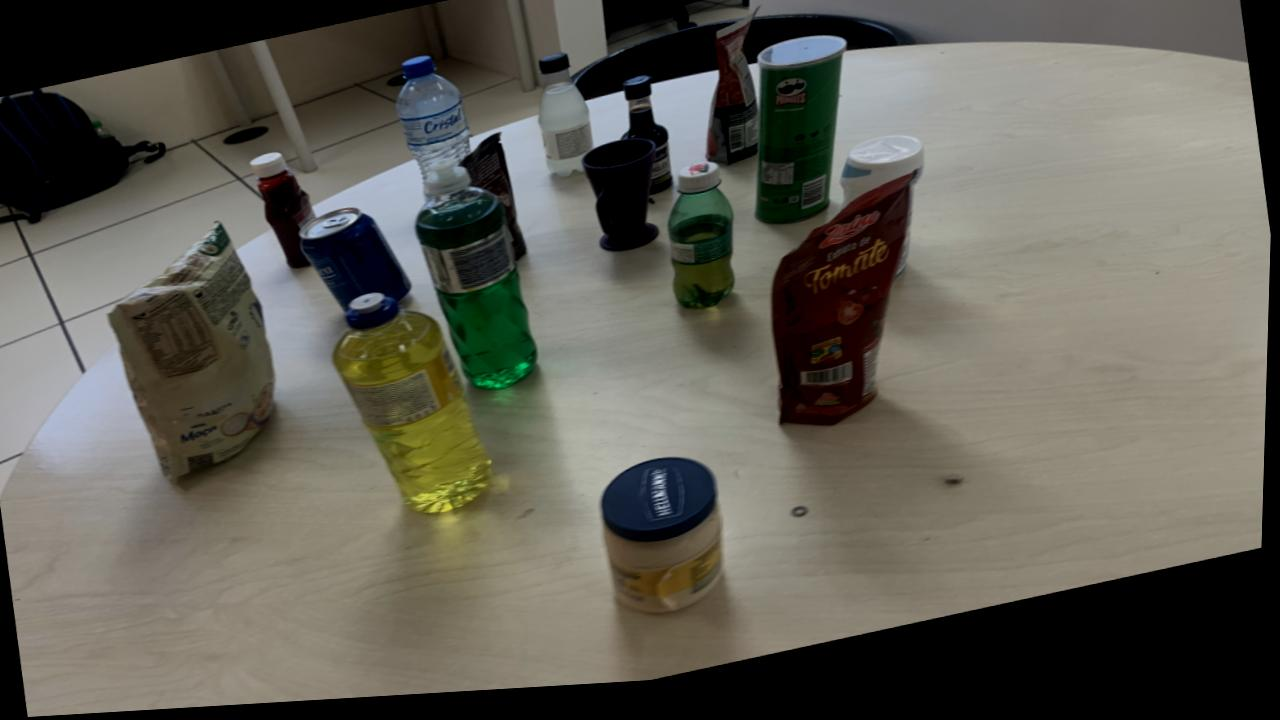Cleaner-Cleanup_Items: (842, 146, 926, 287)
Coffee-Pantry_Items: (462, 138, 528, 264)
Detergent-Cleanup_Items: (335, 297, 495, 519), (416, 165, 540, 395)
English_Sauce-Pantry_Items: (622, 82, 674, 201)
Flakes-Snacks: (110, 226, 278, 482)
Guarana-Drinks: (669, 170, 738, 316)
Ketchup-Pantry_Items: (252, 155, 316, 272)
Mayonnaise-Pantry_Items: (605, 465, 727, 621)
Pringles-Snacks: (757, 44, 849, 233)
Soda-Drinks: (539, 59, 595, 183)
Tomato_Sauce-Pantry_Items: (774, 186, 916, 436), (707, 22, 761, 173)
Tonic-Drinks: (300, 211, 413, 313)
Water_Bottle-Drinks: (397, 61, 473, 181)
